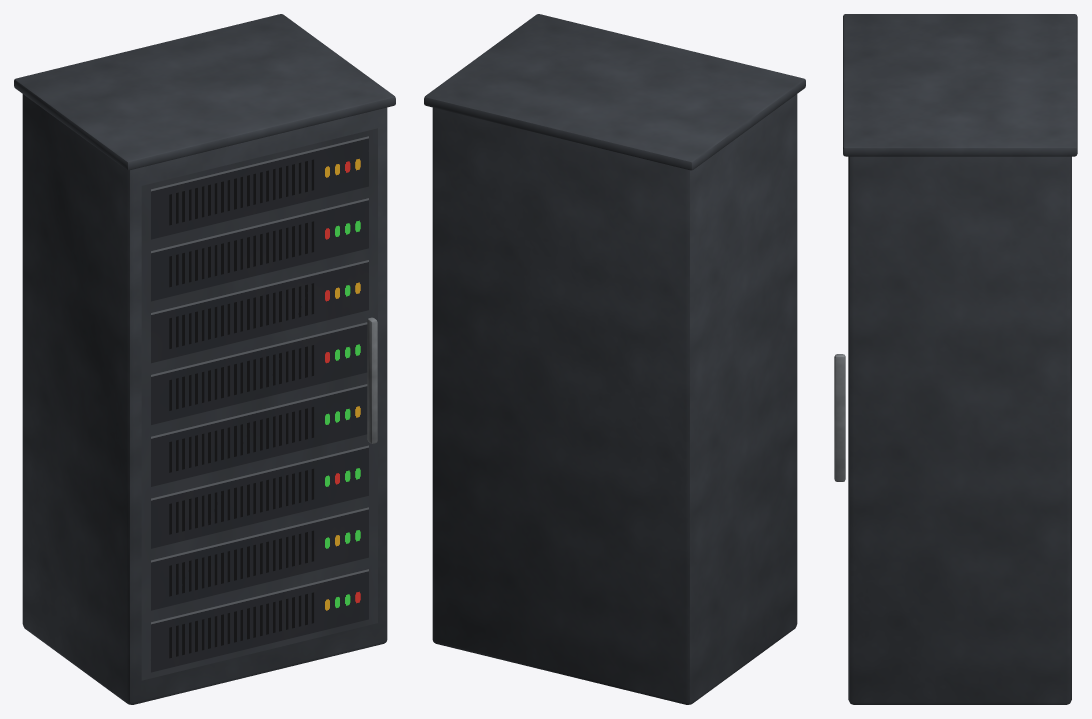
The model's file is prop_rack.glb.
3 renders of one model, left to right at view 1: azimuth 30°, elevation 25°; view 2: azimuth 150°, elevation 25°; view 3: azimuth 270°, elevation 25°, orthographic. The views are drawn at different scales.
Visible parts, largest first — view 1: prop_rack; view 2: prop_rack; view 3: prop_rack.
Boxes of the visible parts, <box> form: prop_rack: <box>14,14,395,704</box>; prop_rack: <box>424,14,805,704</box>; prop_rack: <box>834,14,1077,704</box>.
Size of the model in its own units: 1.14 by 2.22 by 0.87.
3 materials, 3 textured.
